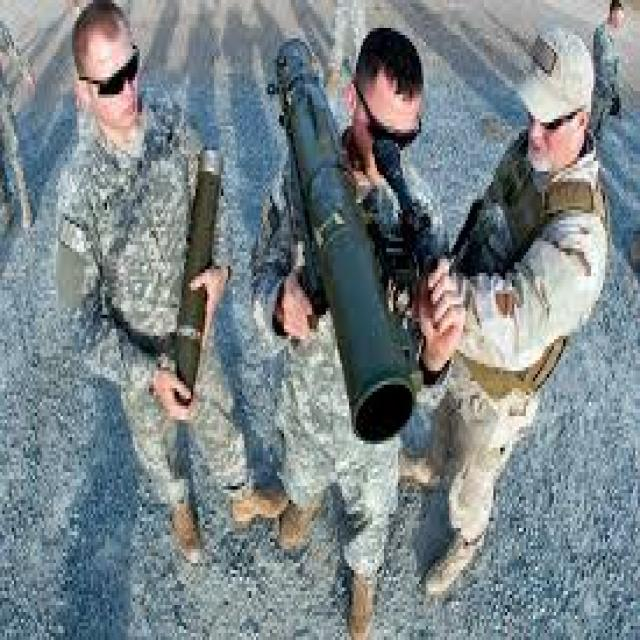bazooka: (174, 34, 433, 523)
